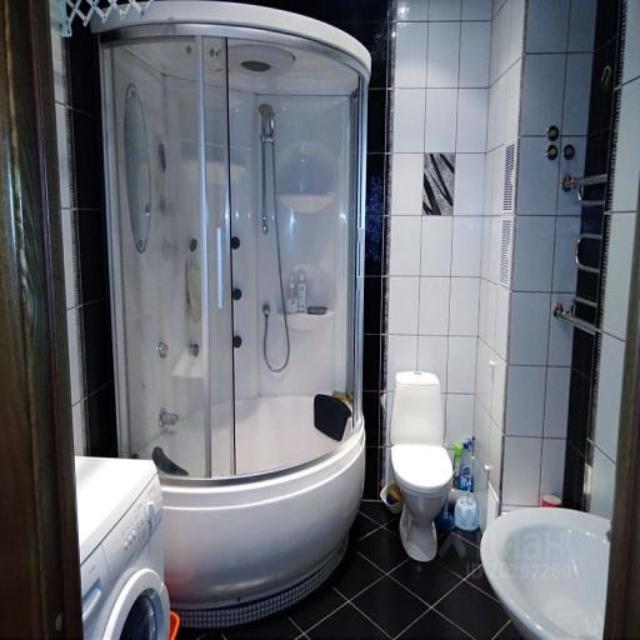Washing-Machine: (72, 456, 168, 638)
